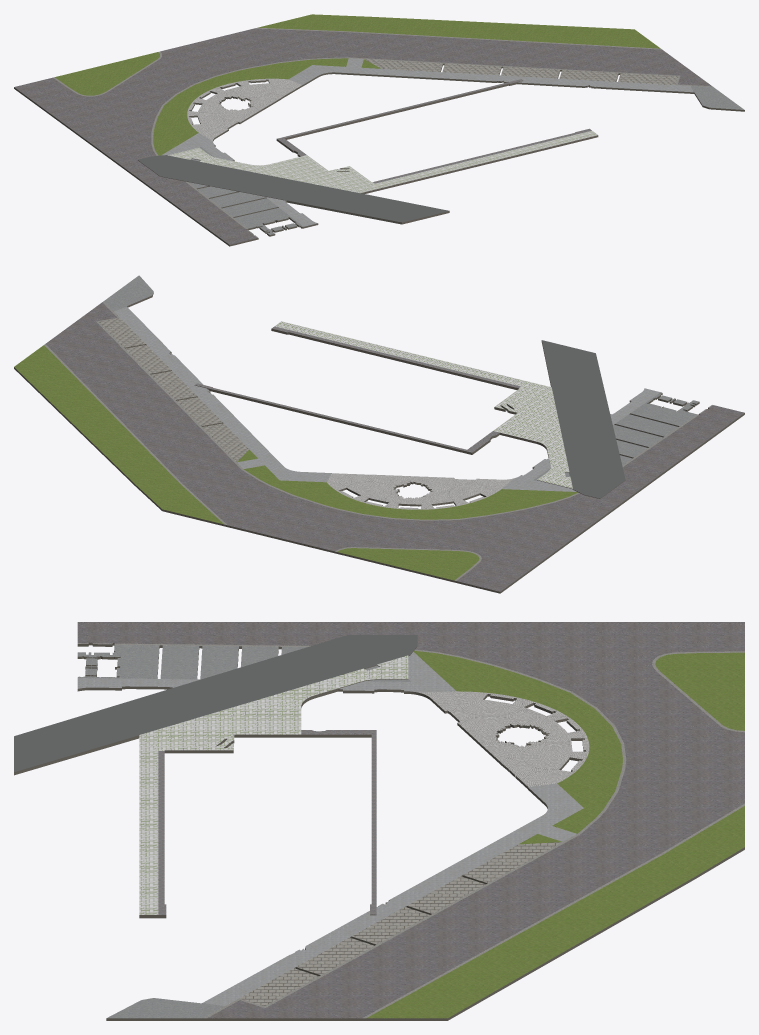
File: streets.glb
3 renders of one model, top to bottom at view 1: azimuth 30°, elevation 25°; view 2: azimuth 150°, elevation 25°; view 3: azimuth 270°, elevation 25°, orthographic. The views are drawn at different scales.
Parts seen in each view (by area): view 1: site_hustopece, site_transped; view 2: site_hustopece, site_transped; view 3: site_hustopece, site_transped.
Part boxes in pixels (x1=…): site_hustopece: x1=14, y1=14, x2=744, y2=246; site_transped: x1=138, y1=79, x2=598, y2=224; site_hustopece: x1=14, y1=275, x2=744, y2=593; site_transped: x1=194, y1=321, x2=625, y2=498; site_hustopece: x1=77, y1=622, x2=744, y2=1020; site_transped: x1=14, y1=635, x2=417, y2=918.
Size of the model in its own units: 59 by 0.22 by 46.
12 materials, 9 textured.
